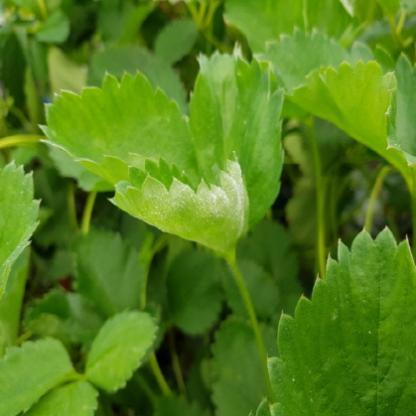Strawberry_Powdery_Mildew_Leaf: (108, 154, 250, 256)
